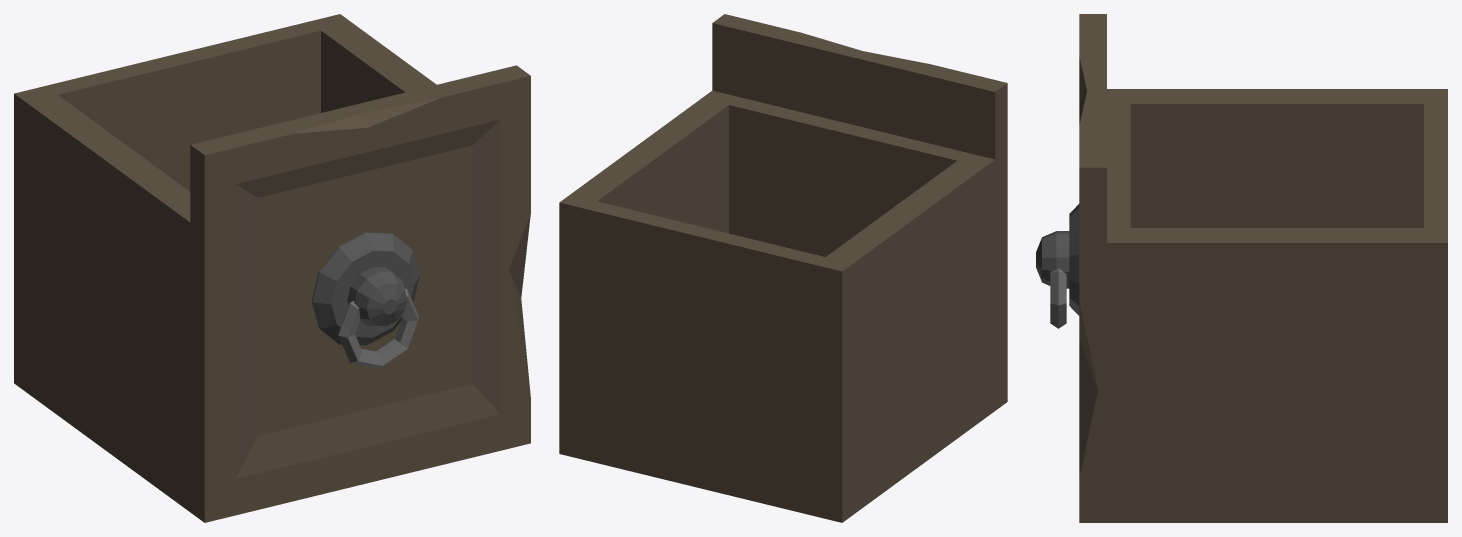
Rendered from Shelving_Cabinet_004.fbx.
The picture shows the model from 3 angles, left to right: view 1: azimuth 30°, elevation 25°; view 2: azimuth 150°, elevation 25°; view 3: azimuth 270°, elevation 25°; orthographic projection. The views are drawn at different scales.
Parts seen in each view (by area): view 1: Shelving_Cabinet_004; view 2: Shelving_Cabinet_004; view 3: Shelving_Cabinet_004.
Part boxes in pixels (box(x1,y1,x2,y2)): Shelving_Cabinet_004: box(14, 14, 530, 522); Shelving_Cabinet_004: box(559, 14, 1007, 522); Shelving_Cabinet_004: box(1036, 14, 1447, 522).
Size of the model in its own units: 0.2162 by 0.2328 by 0.2446.
